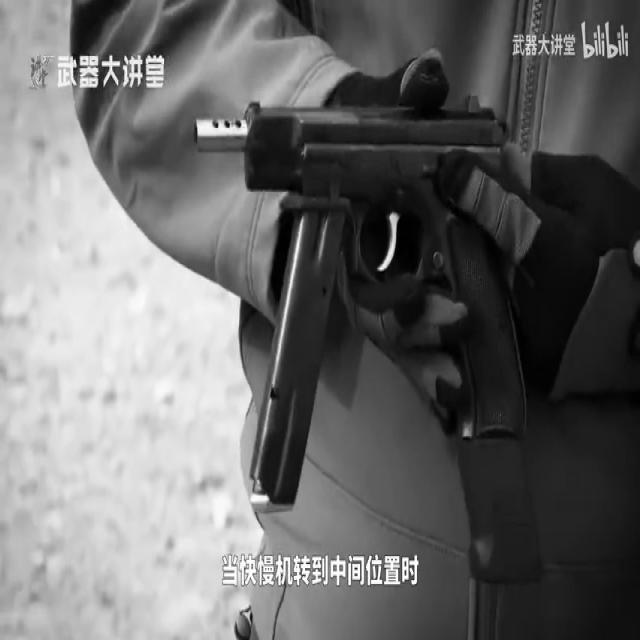Hand-Gun: (184, 84, 551, 555)
